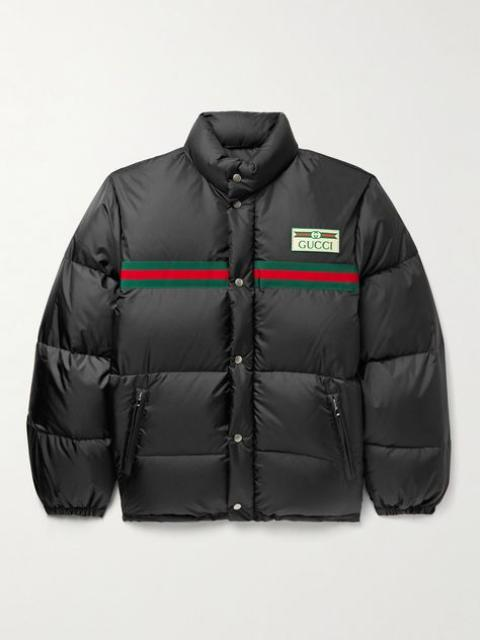Gucci: (287, 223, 341, 257)
